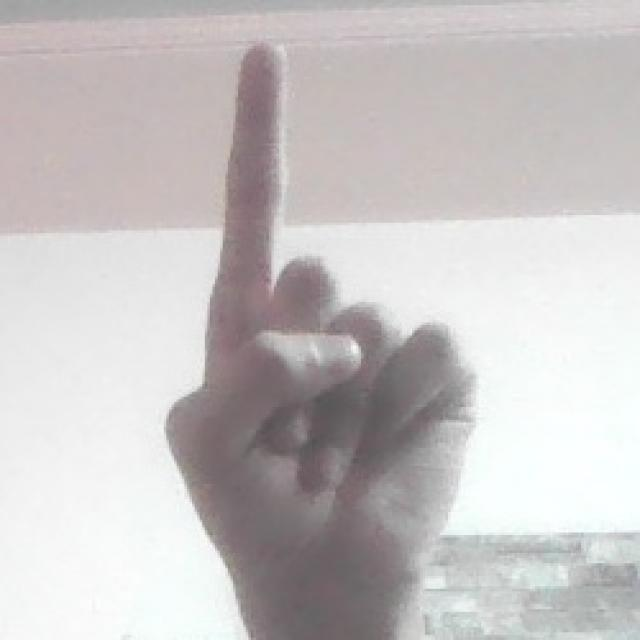Numeric-1: (164, 44, 470, 615)
